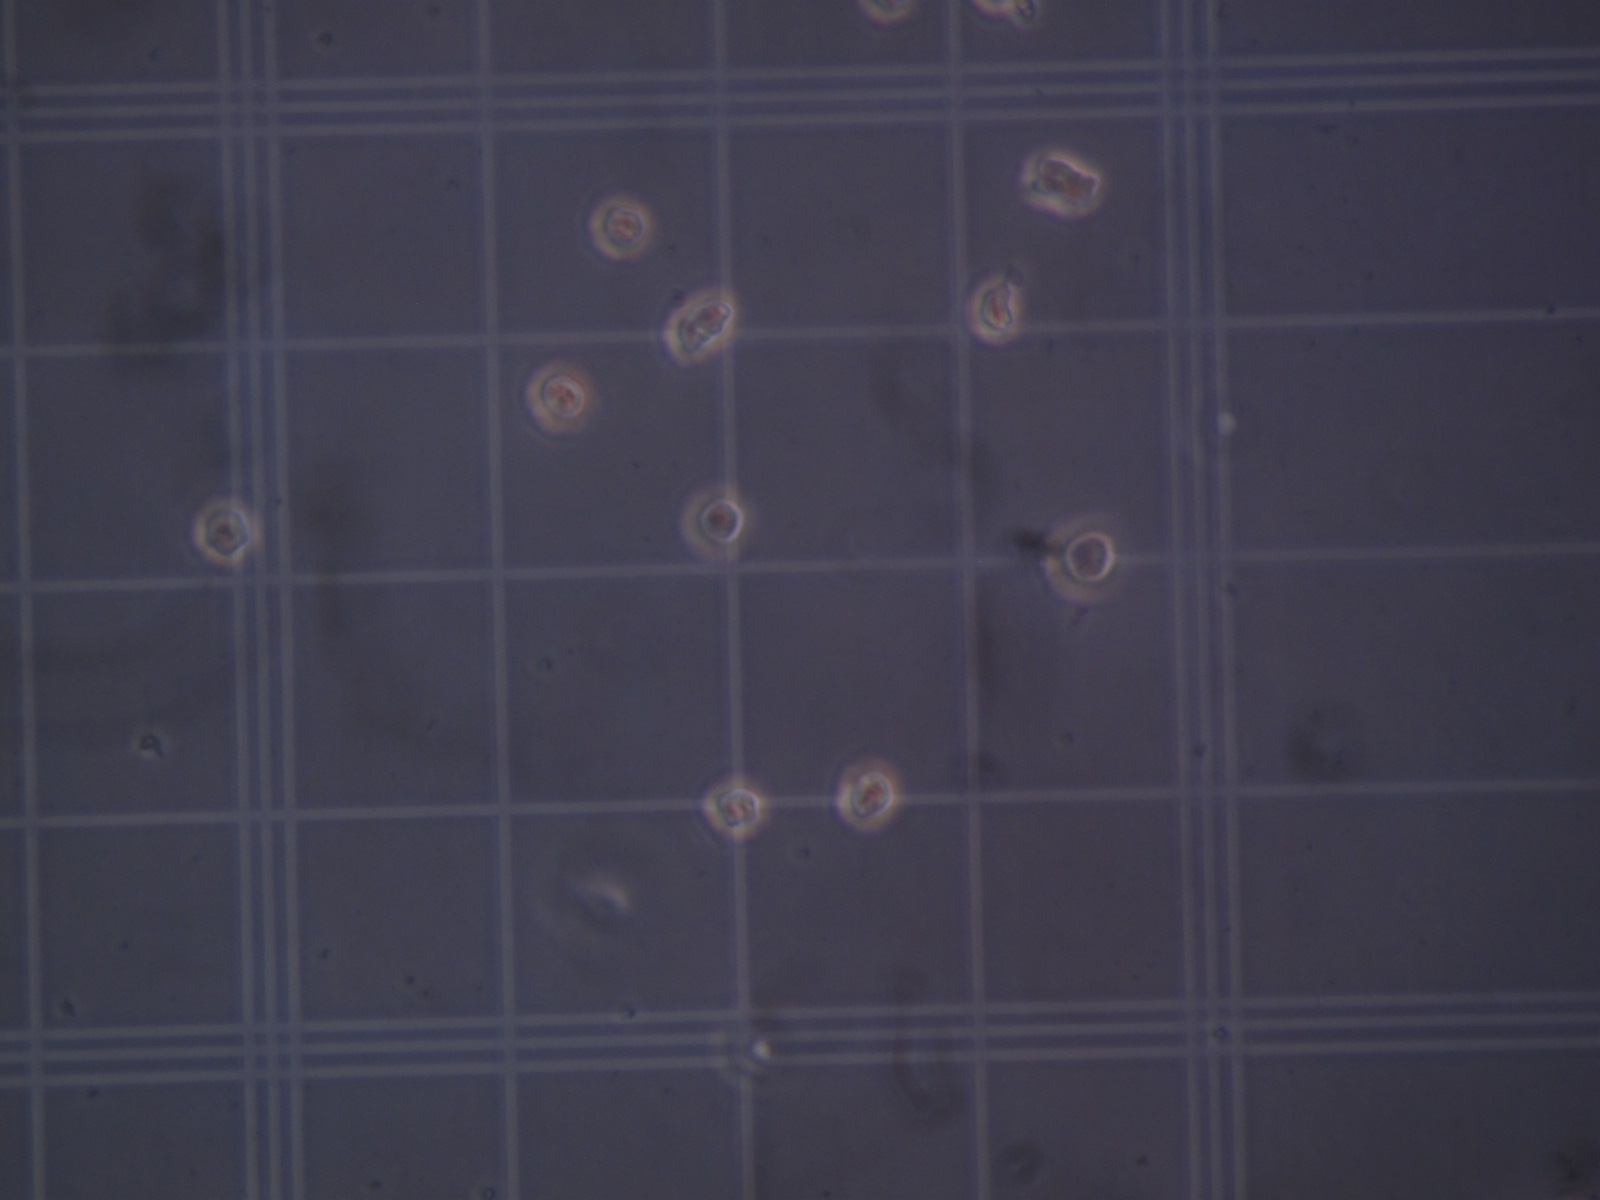hemo: (1041, 513, 1126, 603), (661, 287, 737, 364), (1020, 149, 1102, 218), (679, 485, 750, 560), (525, 361, 595, 434), (837, 758, 900, 831), (588, 195, 653, 260), (193, 498, 256, 563), (702, 776, 766, 838), (968, 279, 1022, 344), (860, 1, 908, 25)
